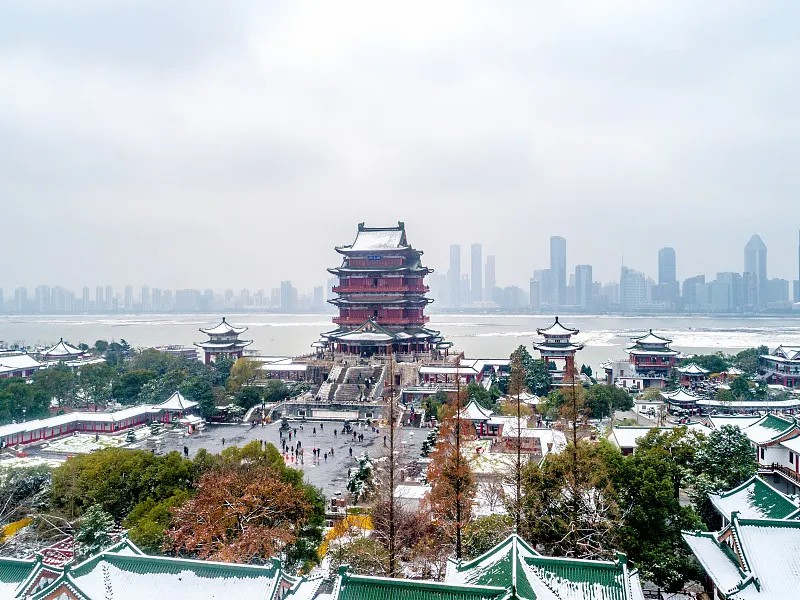Teng: (311, 221, 453, 356)
